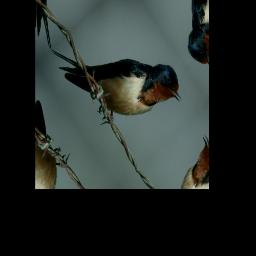Swallow: (48, 0, 190, 160)
